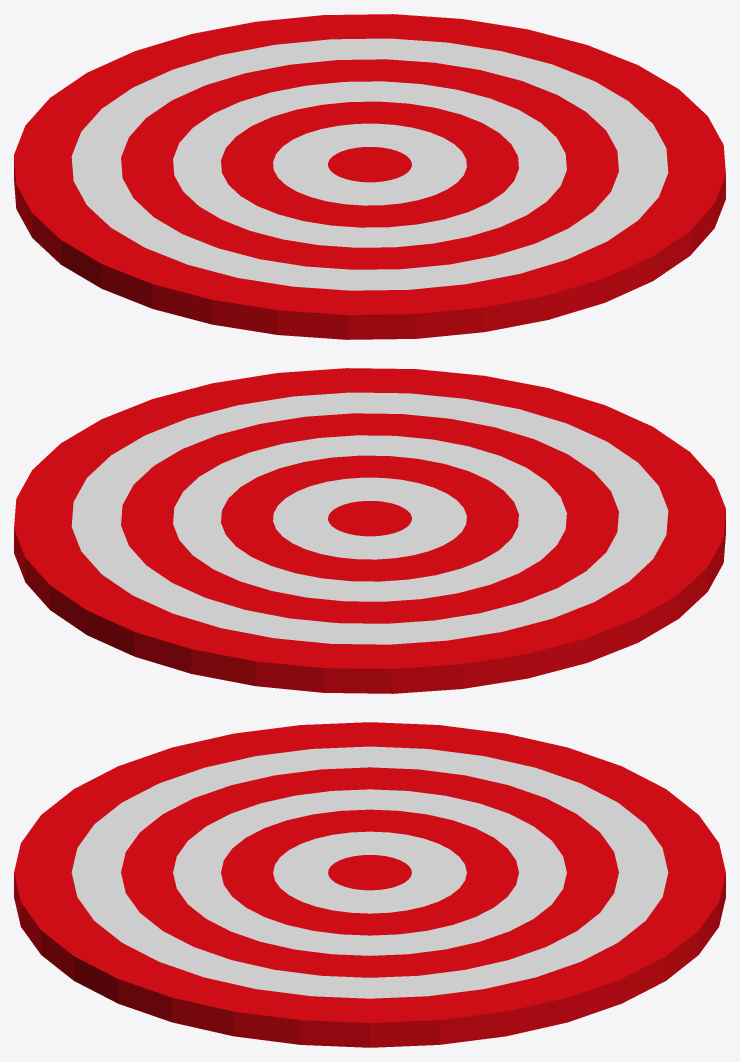
The model's file is target.fbx.
3 renders of one model, top to bottom at view 1: azimuth 30°, elevation 25°; view 2: azimuth 150°, elevation 25°; view 3: azimuth 270°, elevation 25°, orthographic.
Visible parts, largest first — view 1: Circle; view 2: Circle; view 3: Circle.
Part boxes in pixels (x1,y1,x2,y2): Circle: (14,14,725,339); Circle: (14,368,725,693); Circle: (14,722,725,1047).
Size of the model in its own units: 200 by 7.67 by 200.
